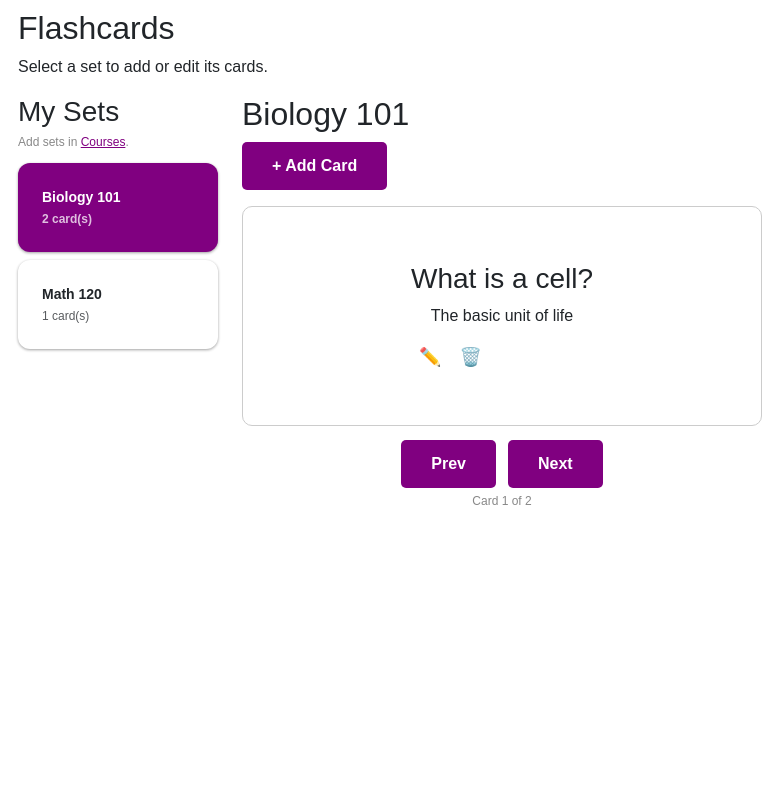
it: Adding flashcards › closes the add form on cancel
What coordinates should you click on to do the following:
click the button "+ Add Card"
I would click on:
 (315, 166)
Its box is [242,142,387,190].
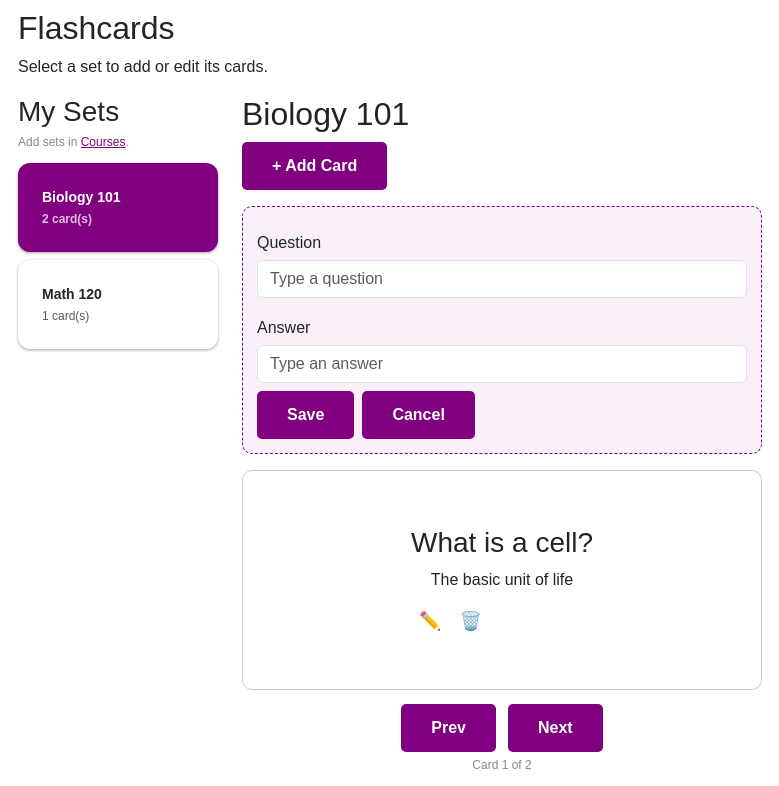
What coordinates should you click on to do the following:
click the button "Cancel"
I would click on:
 (419, 415)
Its box is [362,391,475,439].
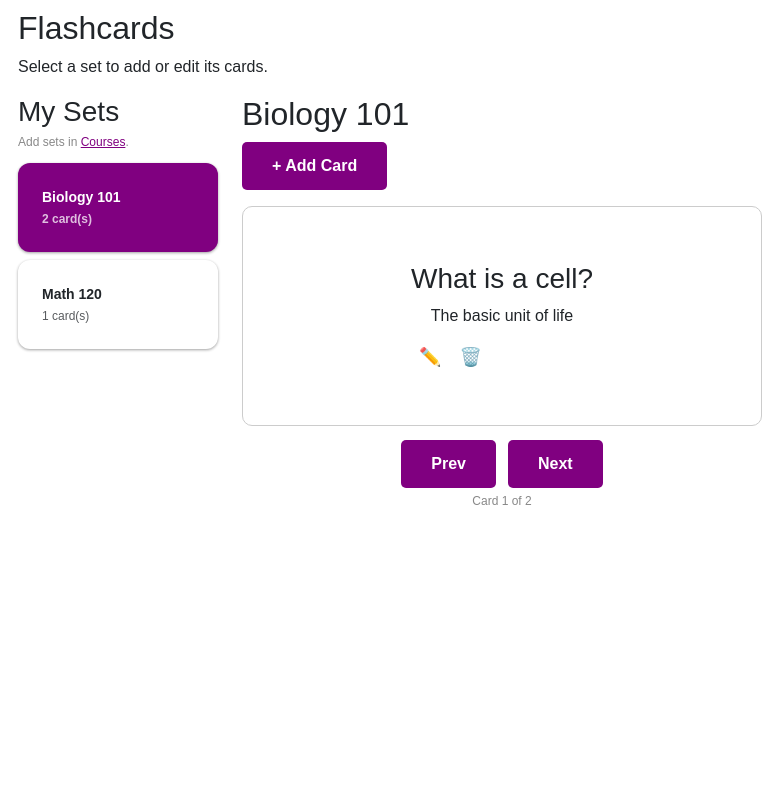
expect the field with placeholder "Type a question" is gone: met
